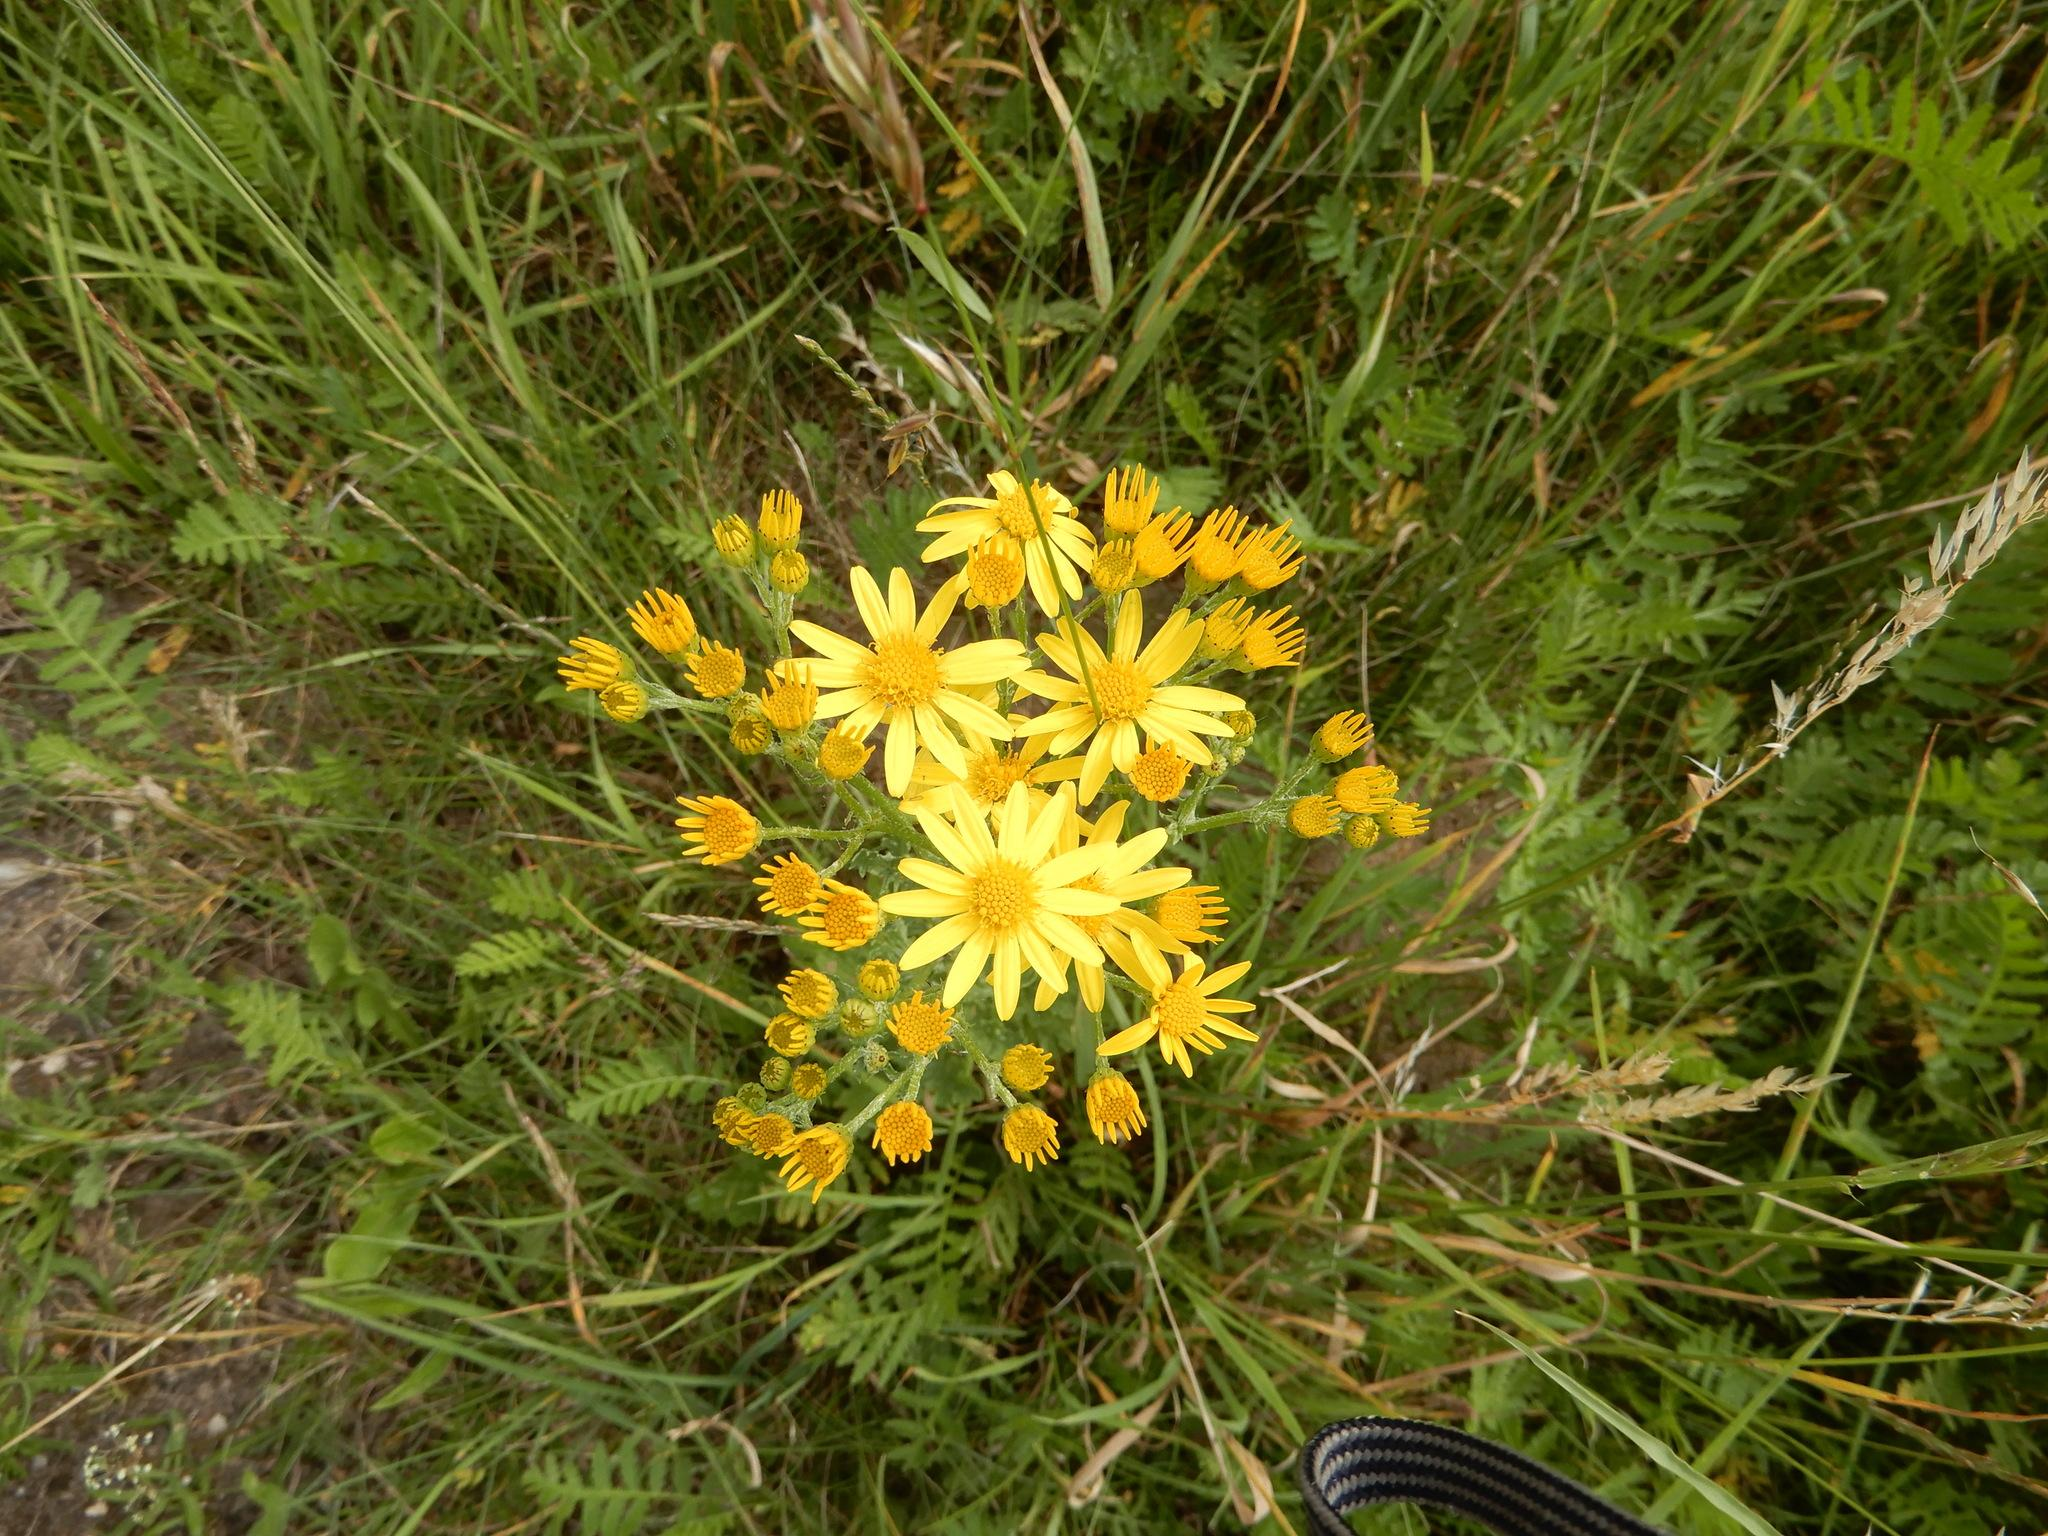Jacobaea vulgaris: (519, 426, 1480, 1220)
